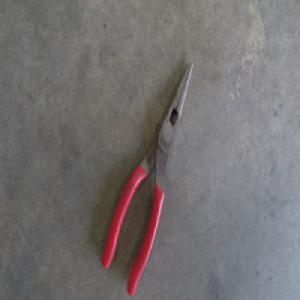Pliers: (101, 60, 192, 289)
